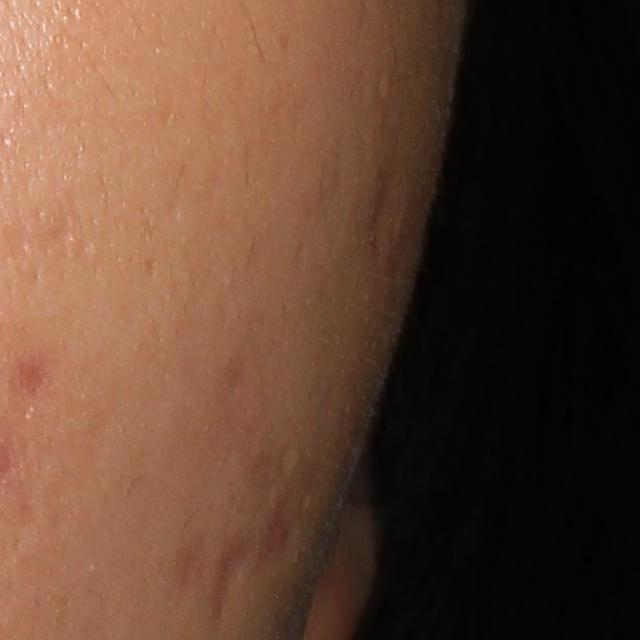atrophic_scar: (211, 531, 255, 628), (368, 163, 402, 271), (261, 468, 296, 558)
